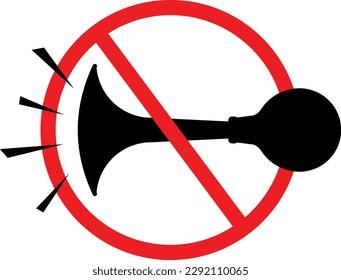Horn Prohibited: (11, 3, 334, 263)
